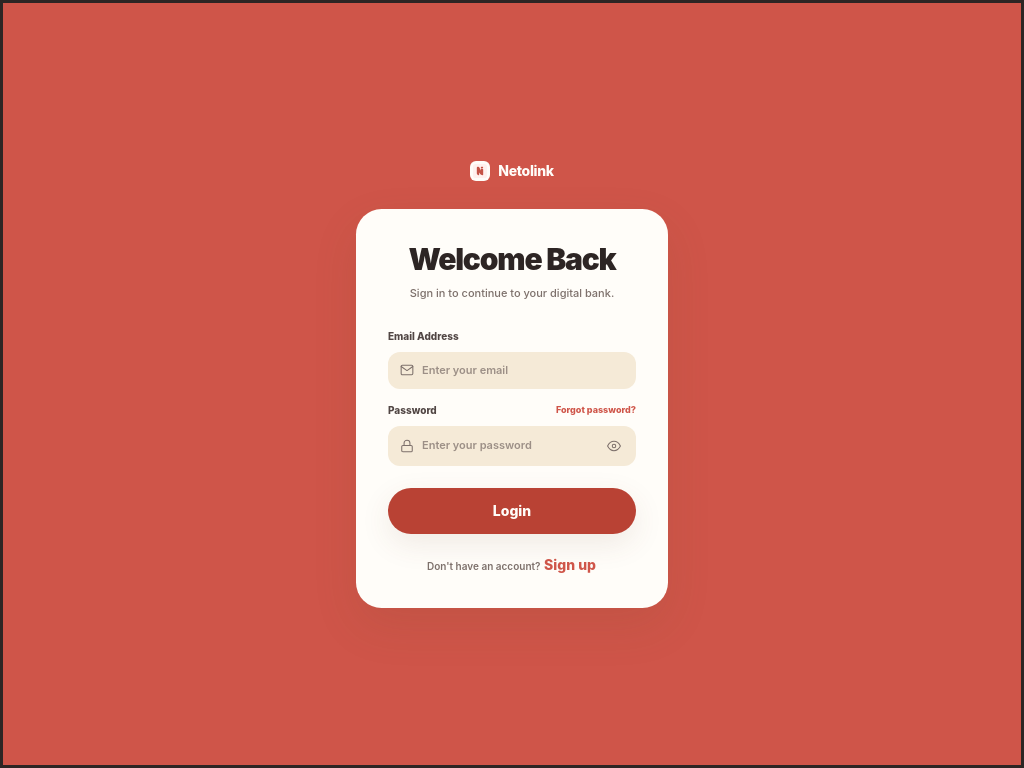
Scenario: login › muestra un mensaje cuando el servicio rechaza las credenciales
This screenshot has width=1024, height=768.
Check: the button "Login" is shown, box [388,488,636,534]
Type "user@example.com" into the field labelled "Email Address" at (523, 370), box [422,362,624,378]
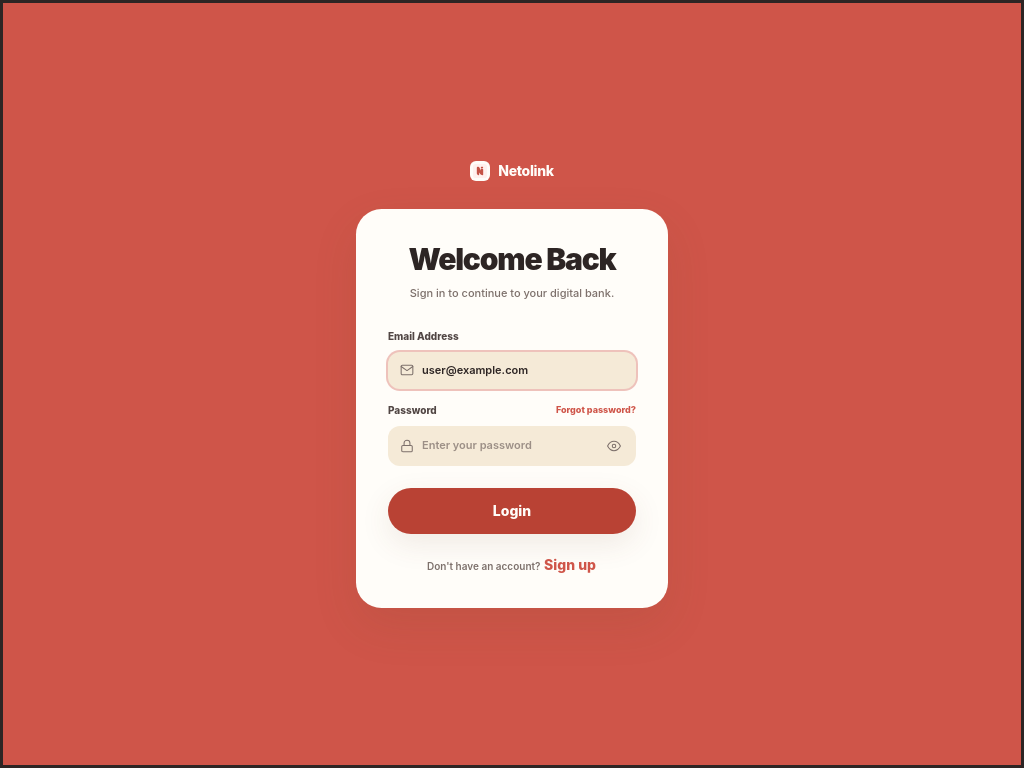
Type "secure-password" into the password field labelled "Password" at (509, 446), box [422,437,596,454]
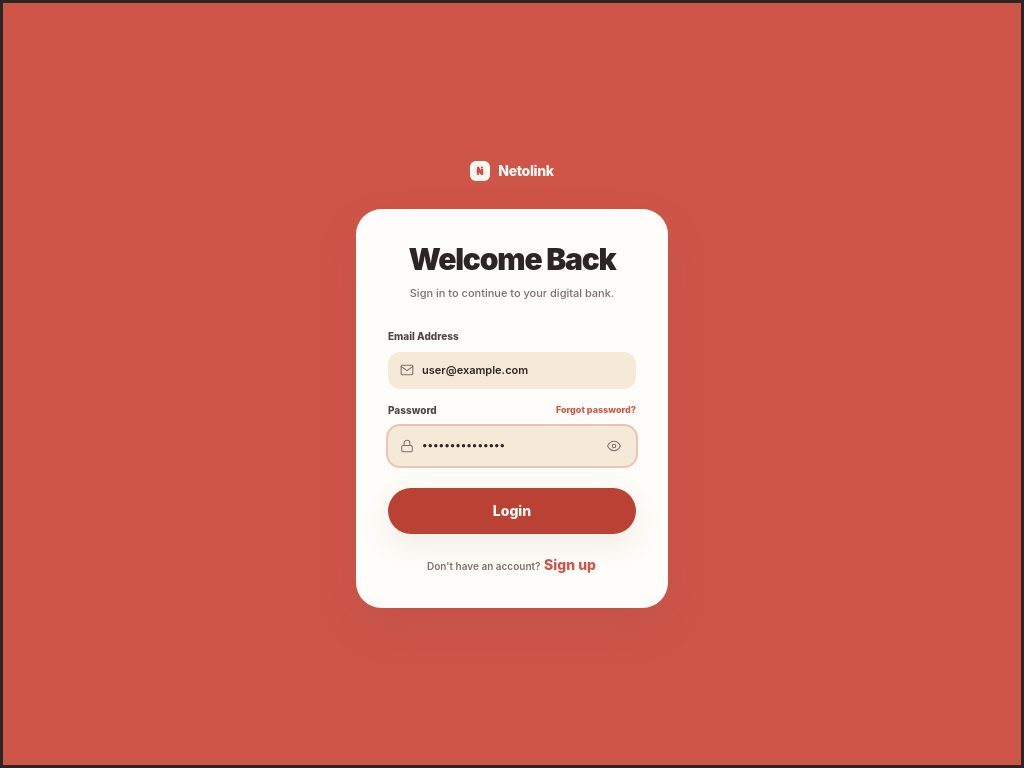
Click the button "Login" at (512, 510), box [388,488,636,534]
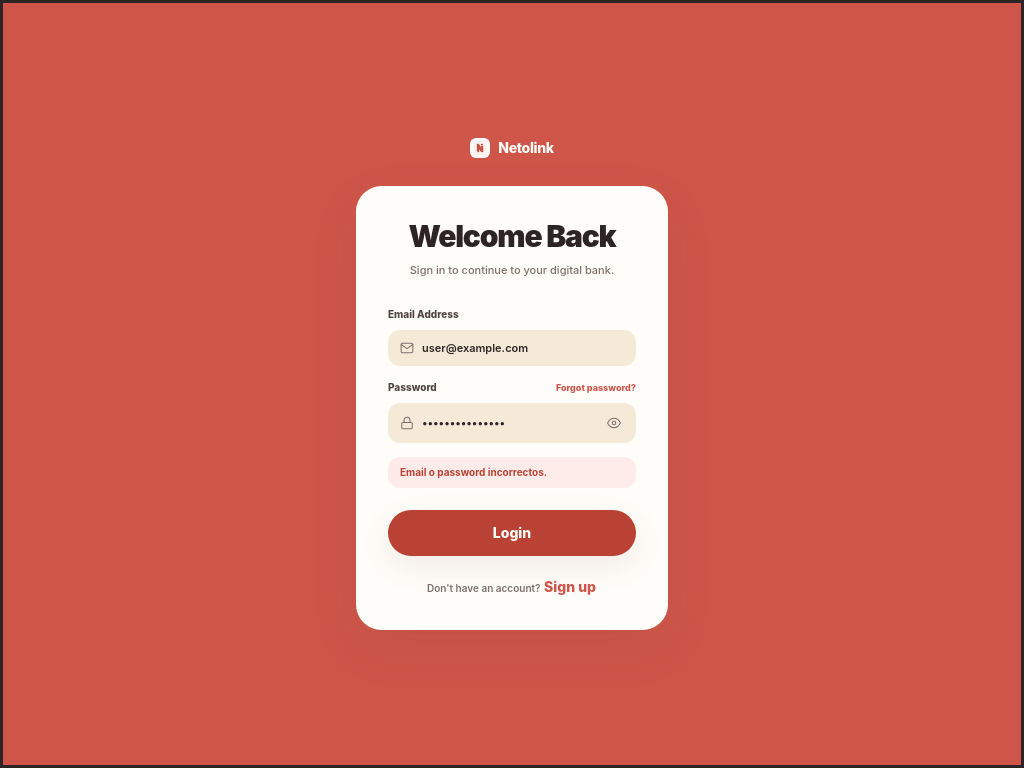
Check: the message reads "Email o password incorrectos.", box [400,466,547,478]
